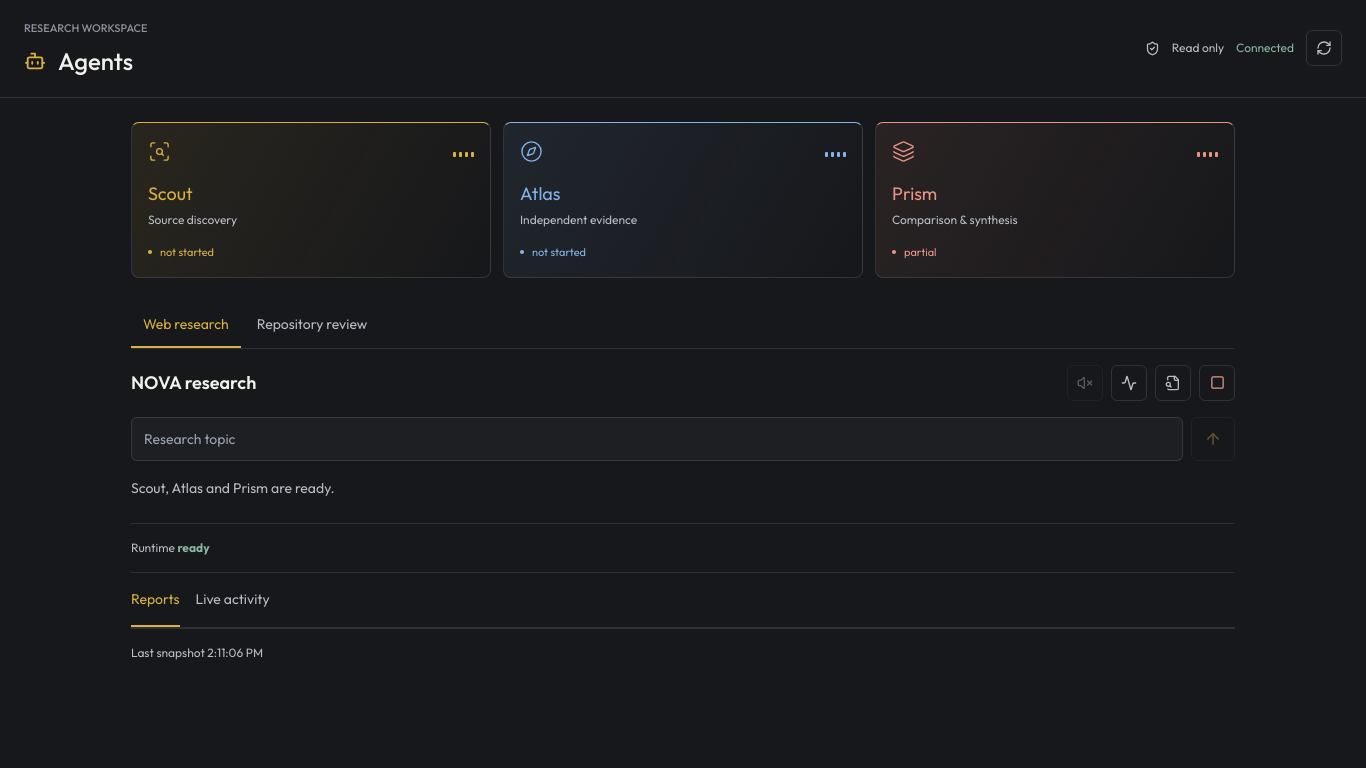
Scenario: native agent controls › shows finished separately from successful and asks for actual status
Step 1. Click the button "Live activity" → click(233, 600), box [196,573,270,627]
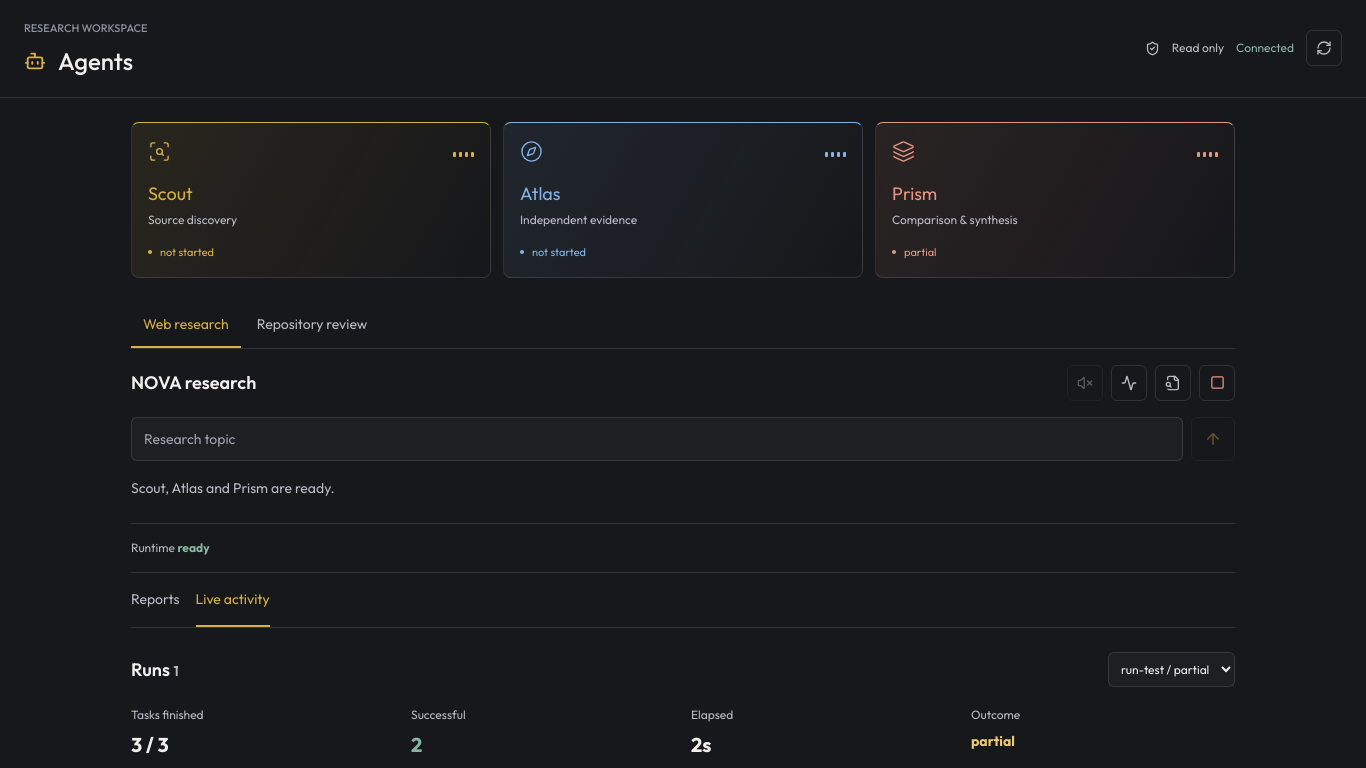
Now the text "3 / 3" is shown, box [131,732,169,757]
Step 2. Click the button named "Ask NOVA for agent status" → click(1129, 382), box [1111,364,1147,400]
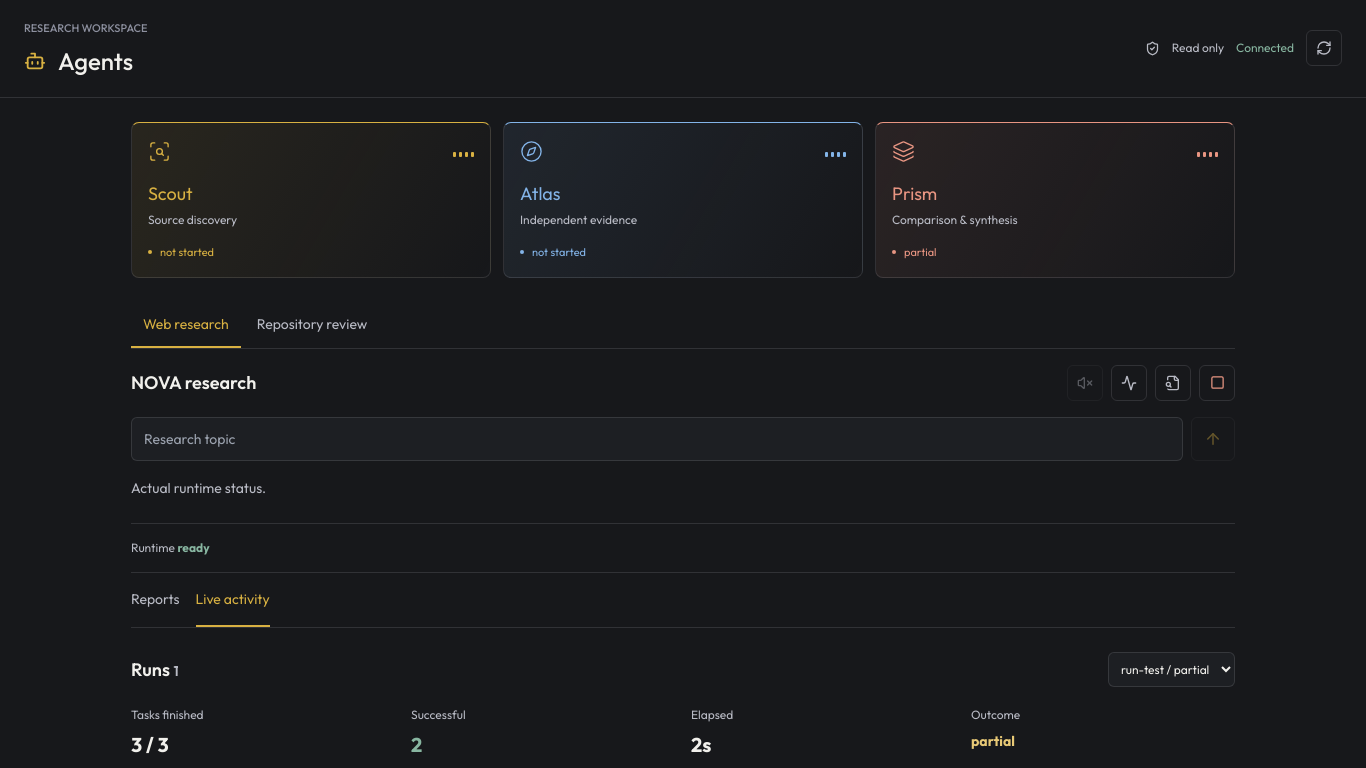
Now the text "Actual runtime status." is shown, box [131,478,266,496]
